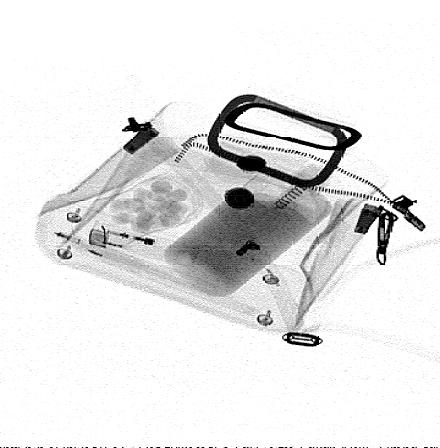Lighter: (88, 221, 199, 267)
